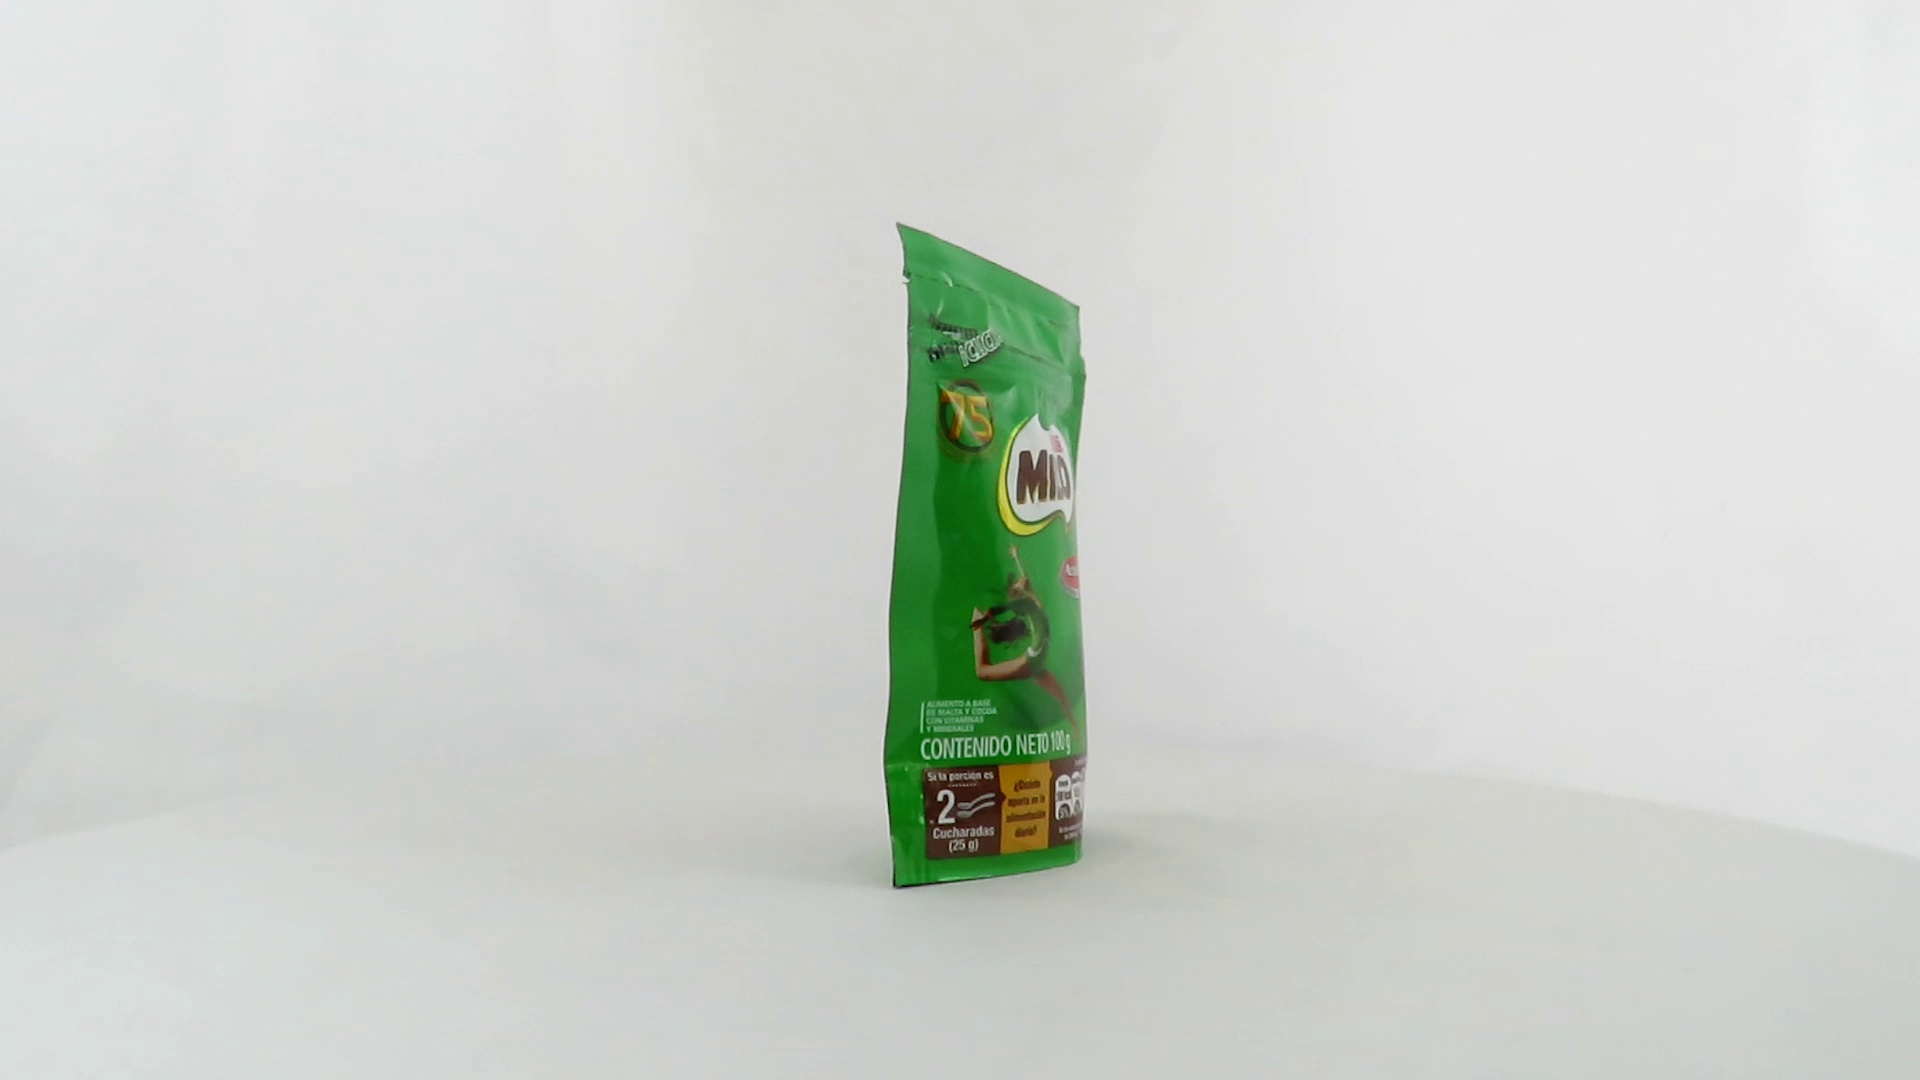COL0170203DYP10000: (878, 218, 1098, 895)
